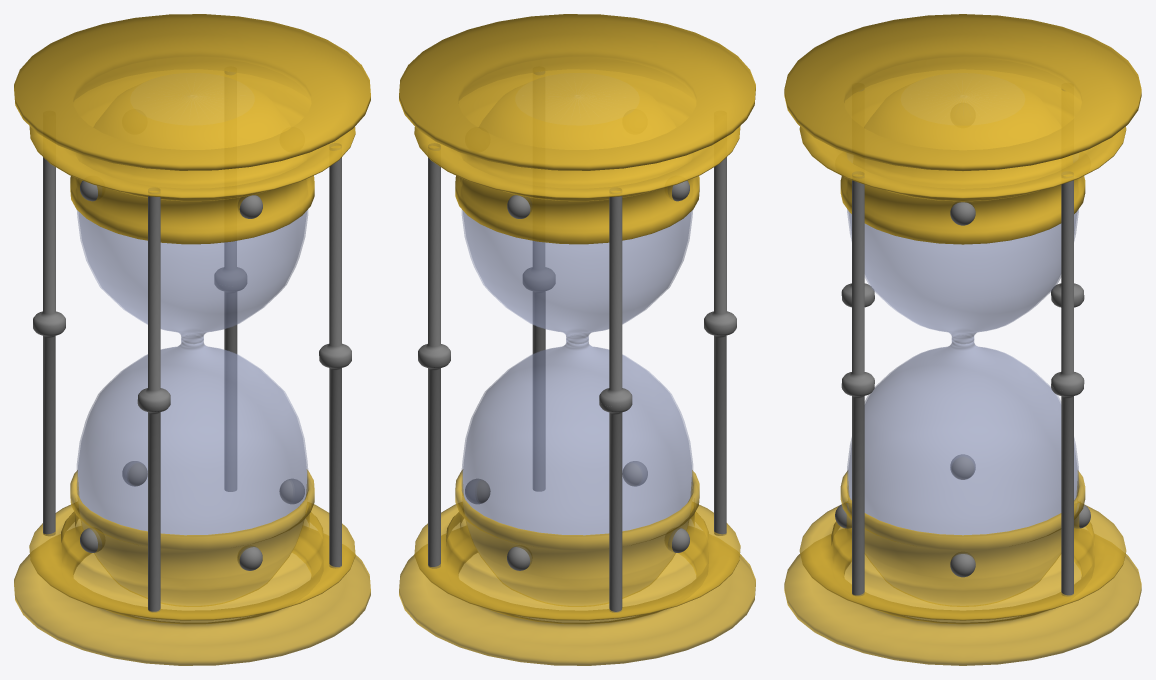
The model's file is hourglass.glb.
3 views of the same model, side by side, from view 1: azimuth 30°, elevation 25°; view 2: azimuth 150°, elevation 25°; view 3: azimuth 270°, elevation 25° (orthographic).
Visible parts, largest first — view 1: Circle.001, Circle.007, Circle.002, Circle.008, Circle, Circle.005, Circle.004, Circle.015, Circle.014, Circle.016, Circle.013, Circle.003 (+1 smaller); view 2: Circle.001, Circle.007, Circle.002, Circle.008, Circle, Circle.003, Circle.016, Circle.006, Circle.014, Circle.015, Circle.013, Circle.005 (+1 smaller); view 3: Circle.001, Circle.007, Circle.002, Circle.008, Circle, Circle.006, Circle.004, Circle.015, Circle.014.
Part boxes in pixels (x1,y1,x2,y2): Circle.001: [14, 14, 370, 244]; Circle.007: [14, 14, 370, 243]; Circle.002: [14, 469, 370, 665]; Circle.008: [77, 335, 307, 535]; Circle: [77, 210, 307, 344]; Circle.005: [138, 188, 170, 406]; Circle.004: [319, 143, 351, 362]; Circle.015: [214, 281, 246, 491]; Circle.014: [319, 357, 351, 568]; Circle.016: [33, 324, 65, 535]; Circle.013: [137, 399, 170, 612]; Circle.003: [33, 157, 65, 330]; Circle.001: [399, 14, 755, 244]; Circle.007: [399, 14, 755, 243]; Circle.002: [399, 469, 755, 665]; Circle.008: [462, 335, 692, 535]; Circle: [462, 210, 692, 344]; Circle.003: [599, 188, 632, 406]; Circle.016: [599, 401, 632, 612]; Circle.006: [418, 143, 450, 362]; Circle.014: [523, 281, 555, 491]; Circle.015: [418, 357, 450, 568]; Circle.013: [704, 324, 736, 535]; Circle.005: [704, 157, 736, 330]; Circle.001: [784, 14, 1141, 244]; Circle.007: [784, 14, 1141, 244]; Circle.002: [784, 470, 1141, 665]; Circle.008: [847, 335, 1078, 535]; Circle: [847, 209, 1078, 344]; Circle.006: [1051, 172, 1084, 390]; Circle.004: [842, 172, 874, 390]; Circle.015: [1051, 384, 1083, 596]; Circle.014: [841, 383, 874, 595].
Bounding box in the file's own units: 21.68 × 33.78 × 21.68.
